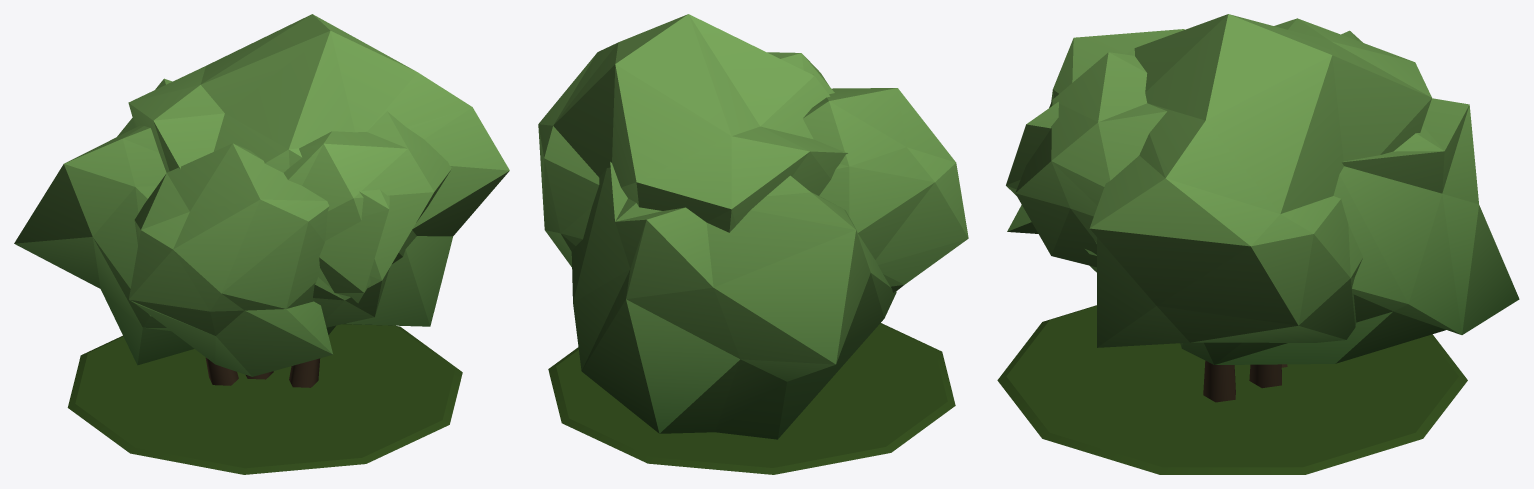
Rendered from lineside-shrub.glb.
The picture shows the model from 3 angles, left to right: view 1: azimuth 30°, elevation 25°; view 2: azimuth 150°, elevation 25°; view 3: azimuth 270°, elevation 25°; orthographic projection. The views are drawn at different scales.
Visible parts, largest first — view 1: lineside_shrub; view 2: lineside_shrub; view 3: lineside_shrub.
Boxes of the visible parts, x1=… form: lineside_shrub: x1=14, y1=14, x2=509, y2=474; lineside_shrub: x1=538, y1=14, x2=968, y2=474; lineside_shrub: x1=997, y1=14, x2=1519, y2=474.
Bounding box in the file's own units: 1.37 × 1.22 × 1.43.
